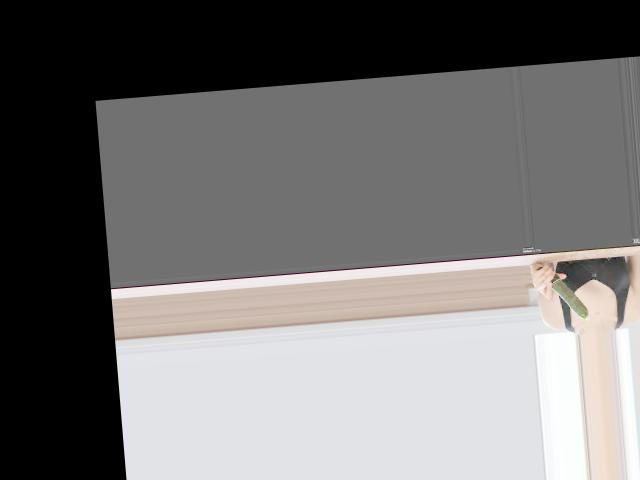cucumber: (536, 262, 588, 323)
